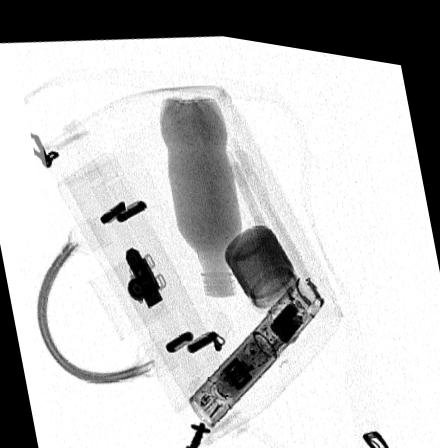Baton: (187, 266, 325, 420)
